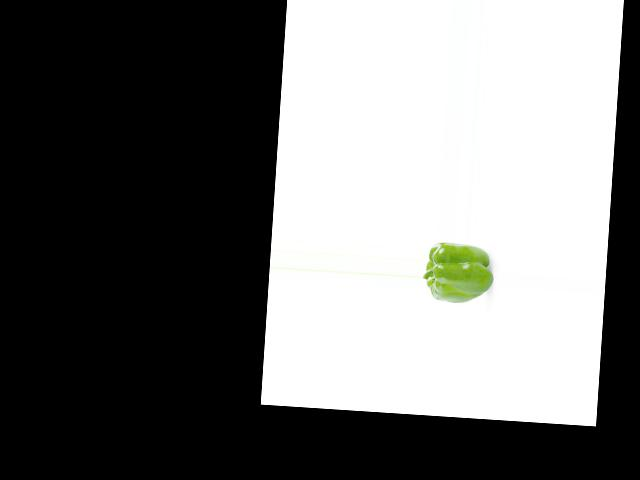bell_pepper: (422, 240, 493, 306)
